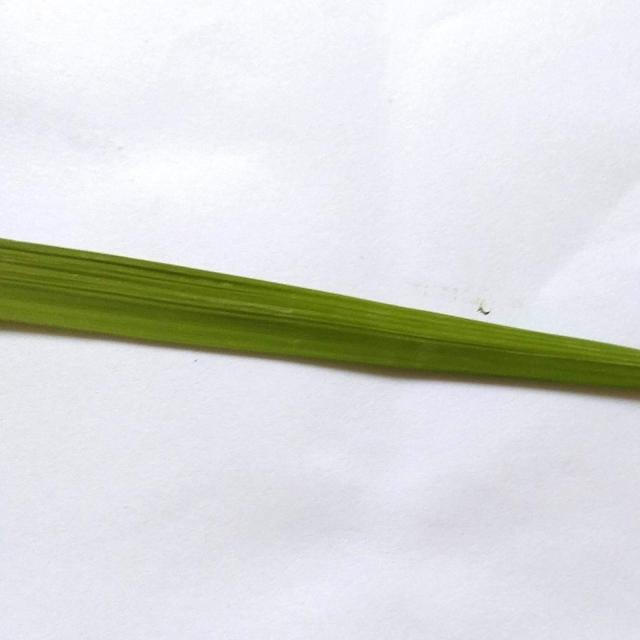healthy: (1, 223, 640, 441)
